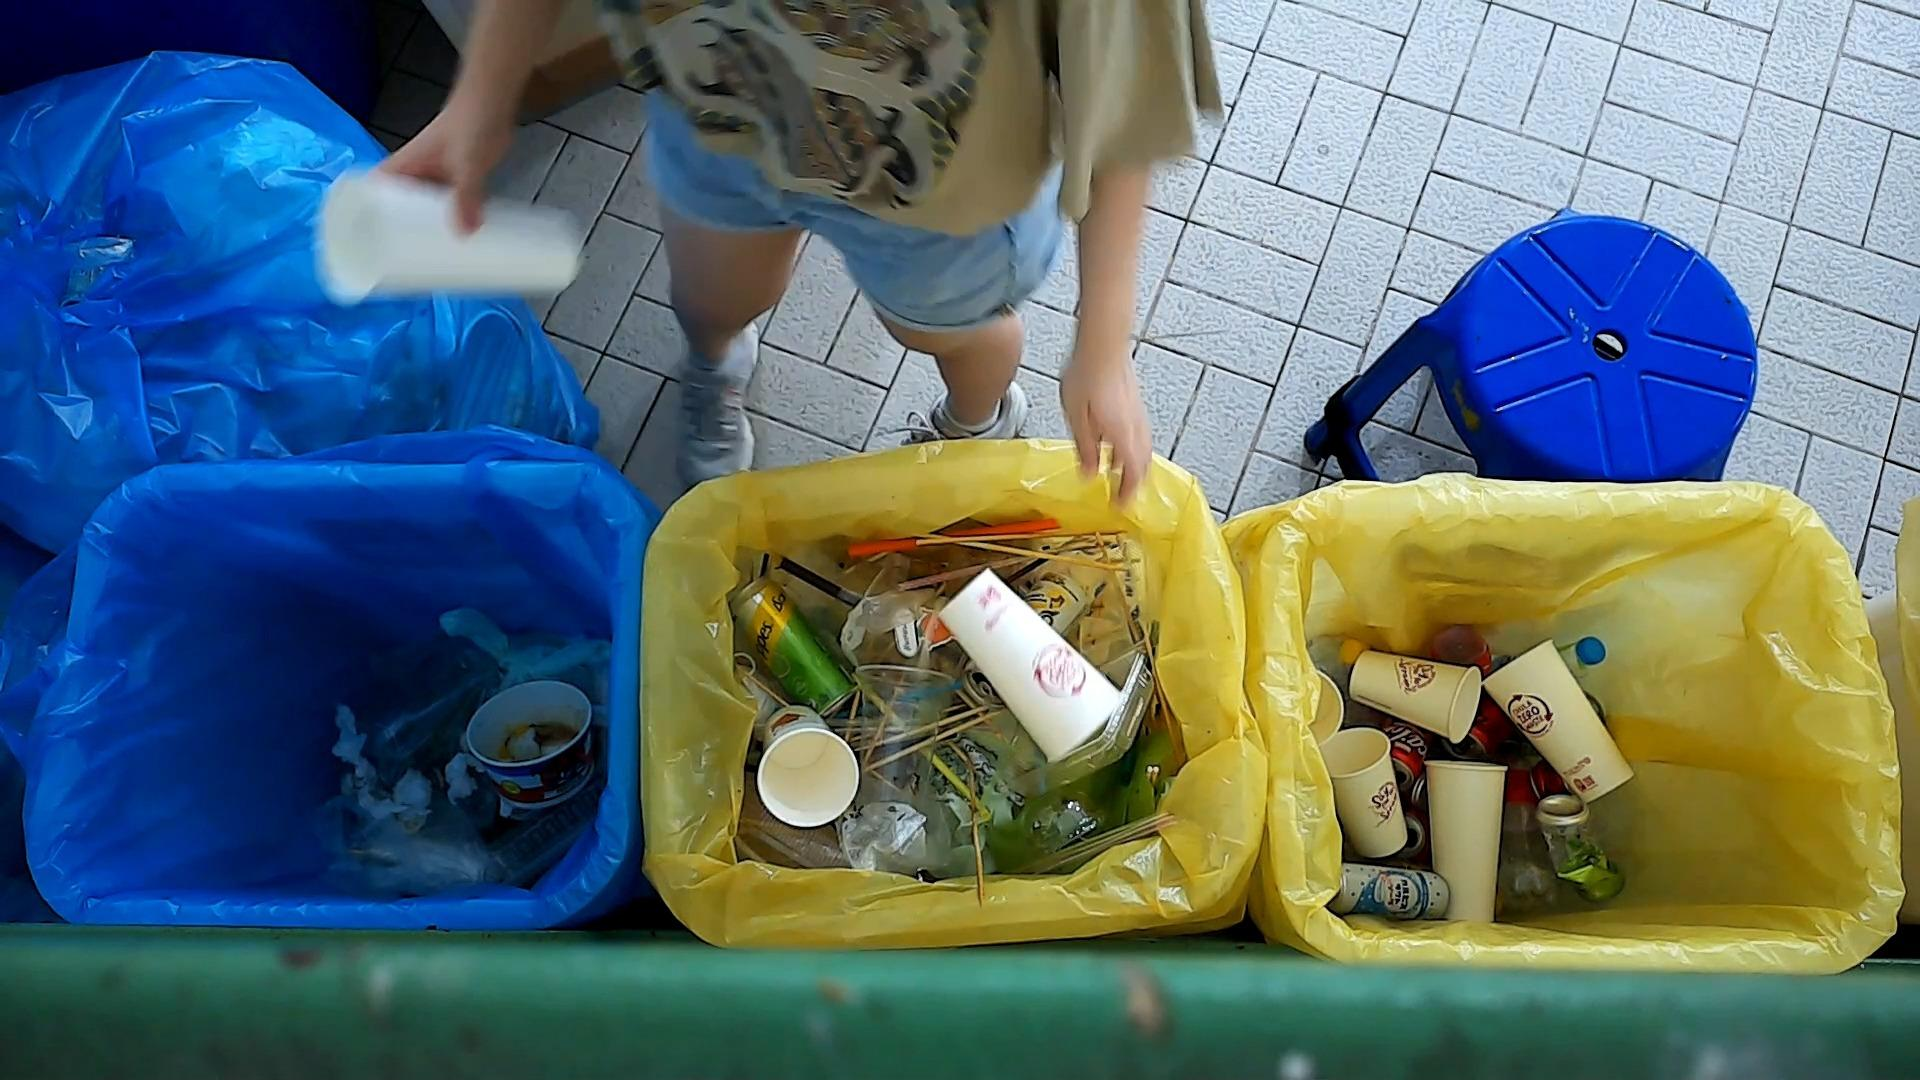can: (725, 575, 862, 724), (1532, 791, 1630, 909), (1321, 860, 1456, 923)
dirty food container: (463, 678, 597, 814)
plastic bag: (839, 778, 978, 885)
plastic cup: (848, 662, 960, 810), (836, 560, 972, 680)
sticks: (856, 709, 1005, 774), (920, 529, 1131, 574), (852, 702, 994, 752), (1141, 624, 1184, 753), (914, 527, 1113, 549), (963, 746, 988, 909)
straw: (866, 684, 993, 825), (894, 555, 1029, 591), (778, 553, 862, 608)
tissue paper: (355, 764, 435, 831), (327, 702, 380, 782), (442, 750, 487, 810)
zero waste cup: (311, 156, 587, 314), (934, 563, 1126, 766), (1477, 634, 1639, 810), (1423, 757, 1510, 924), (750, 703, 861, 831), (1345, 646, 1484, 746), (1320, 727, 1414, 860)
